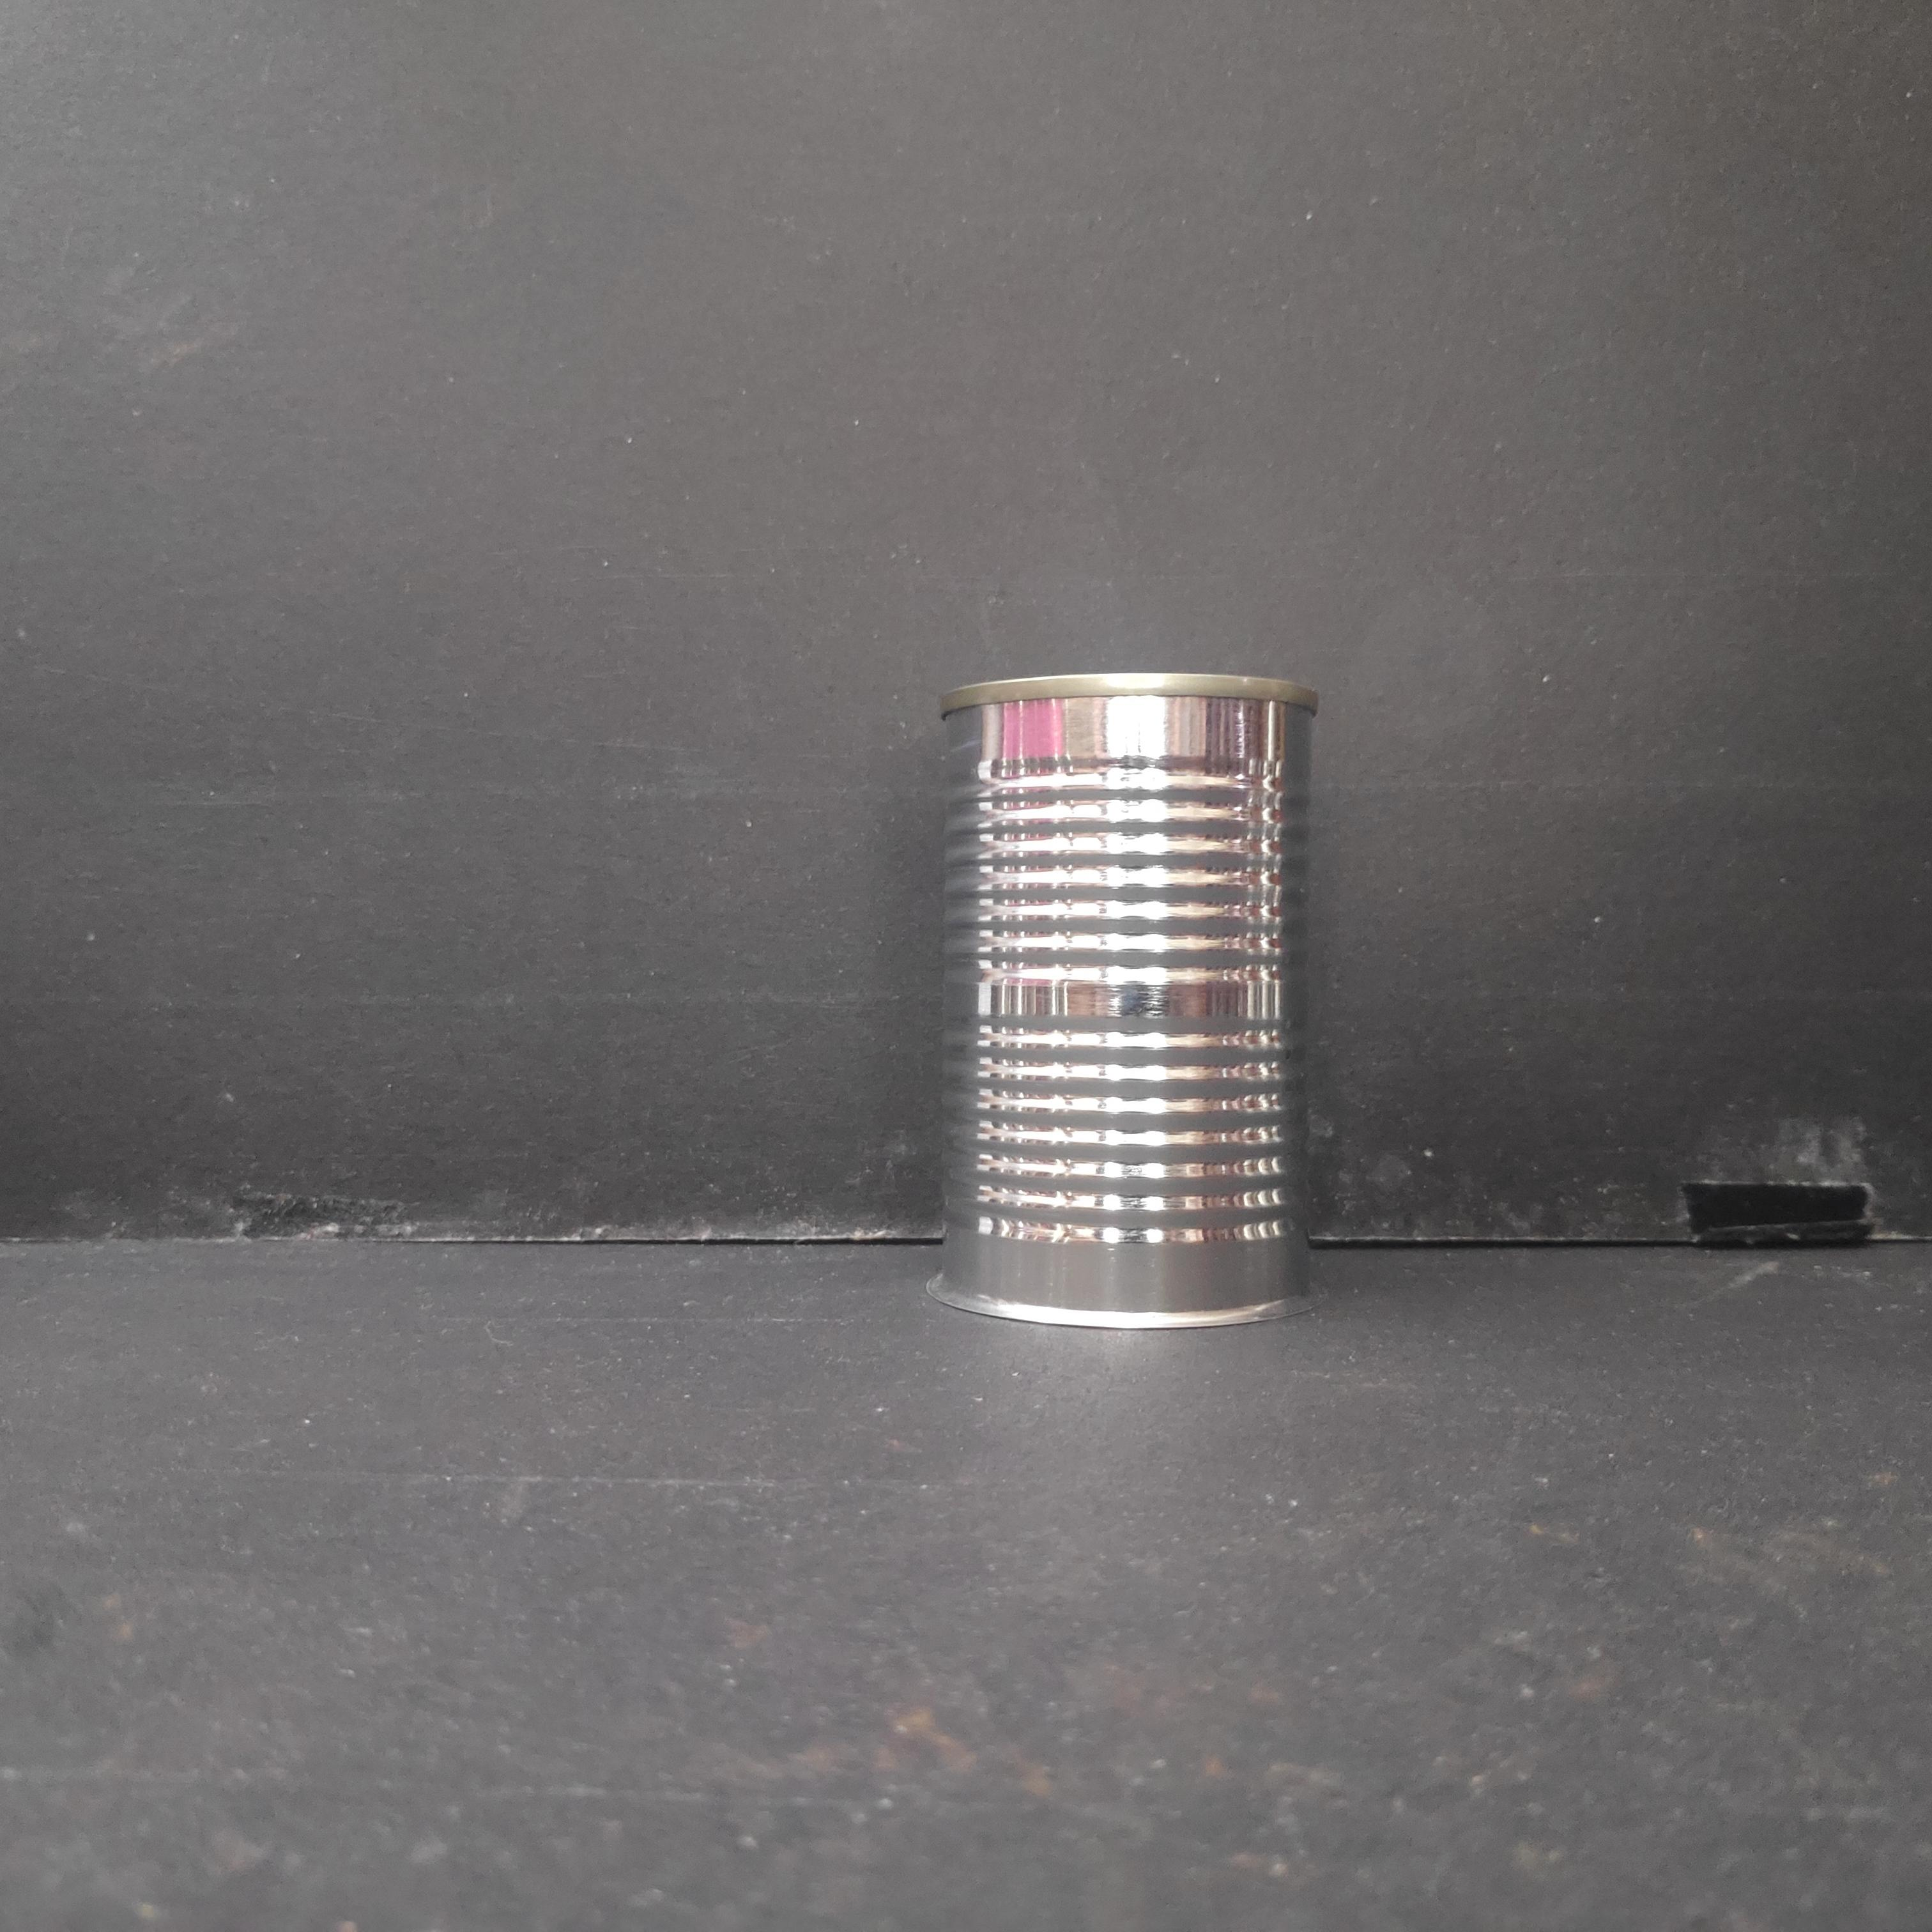No defect: (925, 672, 1332, 1330)
